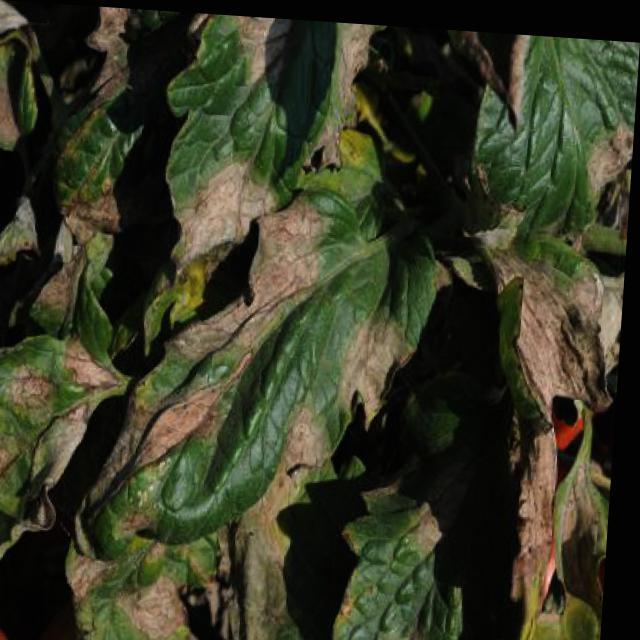Tomato mosaic virus leaf: (82, 181, 454, 599), (147, 12, 390, 292), (449, 153, 632, 507), (329, 402, 530, 639), (0, 311, 141, 639), (444, 24, 638, 235)
